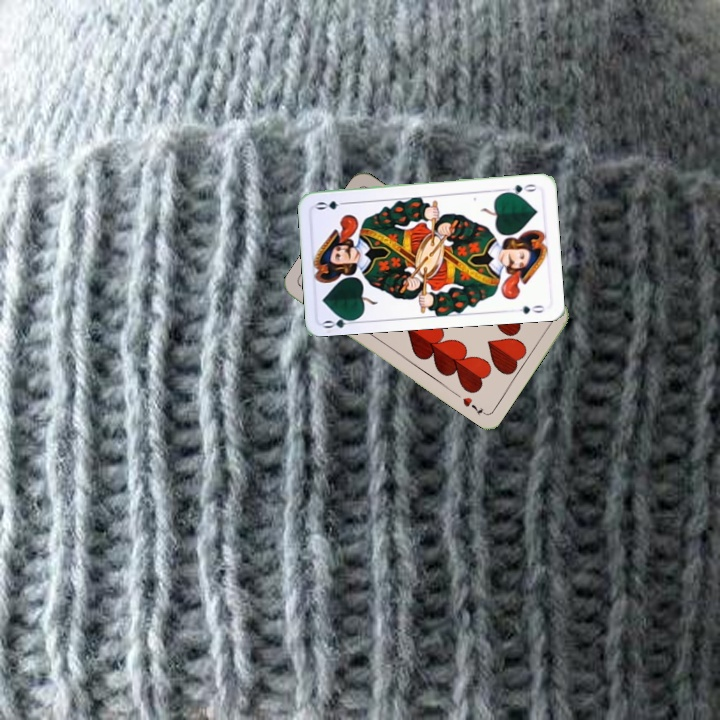GO: (320, 311, 360, 331), (500, 180, 540, 198)
